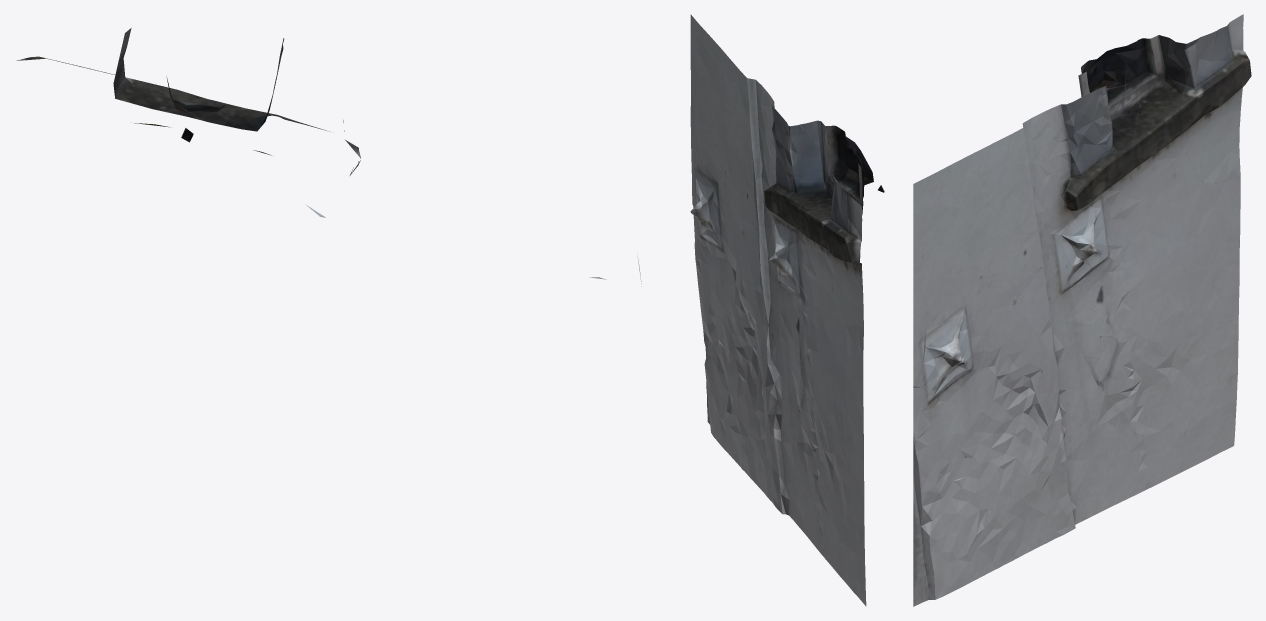
The picture shows the model from 3 angles, left to right: view 1: azimuth 30°, elevation 25°; view 2: azimuth 150°, elevation 25°; view 3: azimuth 270°, elevation 25°; orthographic projection. The views are drawn at different scales.
Bounding box in the file's own units: 1.41 × 1.67 × 1.19.
Materials: 3 (3 with a texture image).
